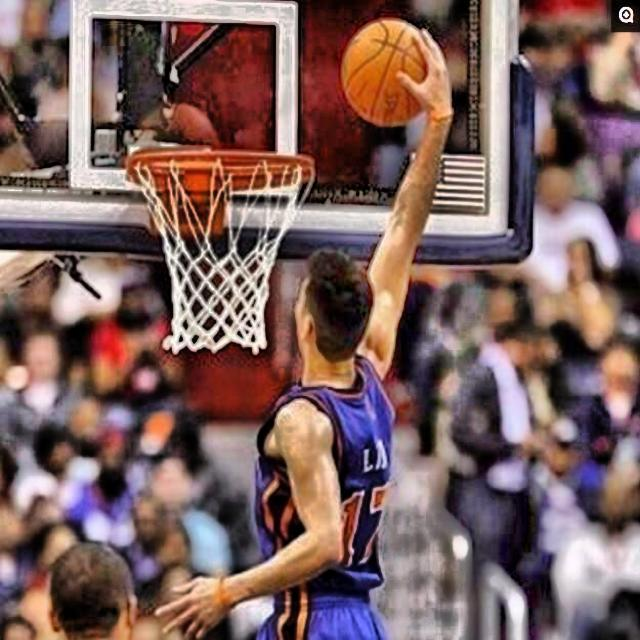board: (340, 19, 426, 129)
rim: (120, 152, 316, 352)
